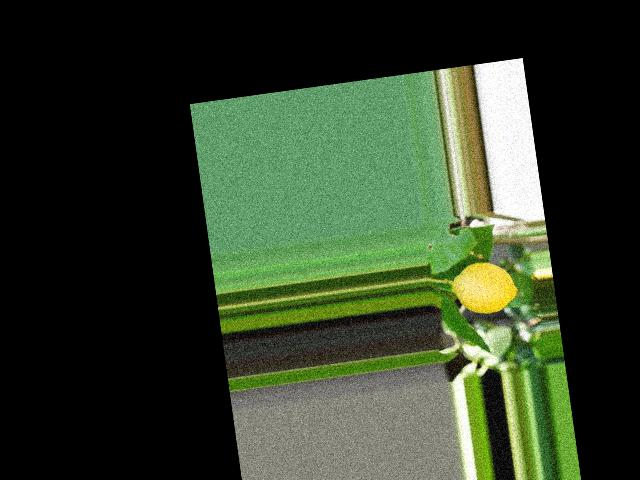lemon: (445, 255, 531, 331)
